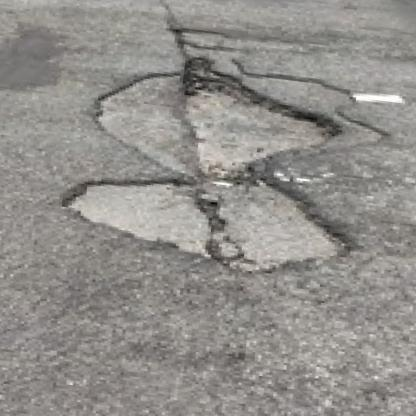pothole: (52, 149, 374, 289), (85, 43, 352, 183)
